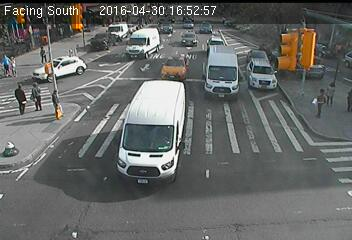neg: (80, 63, 104, 95), (72, 134, 96, 165), (272, 78, 295, 107), (149, 113, 171, 143), (213, 15, 235, 44), (139, 53, 161, 81), (241, 67, 261, 94), (285, 12, 305, 39), (207, 84, 225, 109), (171, 15, 188, 38), (213, 158, 229, 178)
pos: (39, 88, 69, 128), (3, 82, 30, 117), (24, 80, 47, 112), (310, 88, 332, 117), (320, 80, 341, 109), (33, 42, 51, 66), (4, 54, 22, 77)
